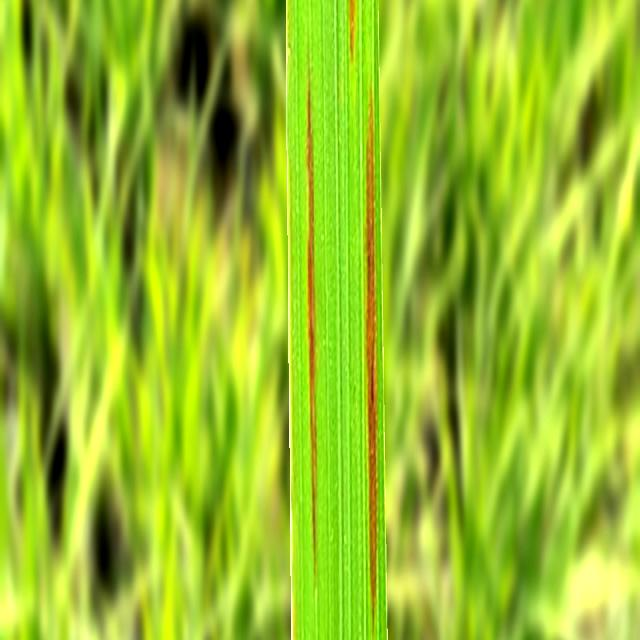NBS: (366, 93, 378, 621), (307, 75, 317, 576), (348, 0, 356, 58)
